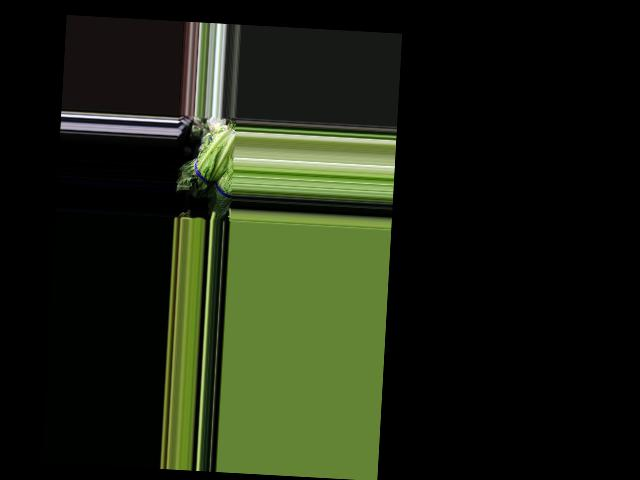lettuce: (179, 130, 235, 197)
